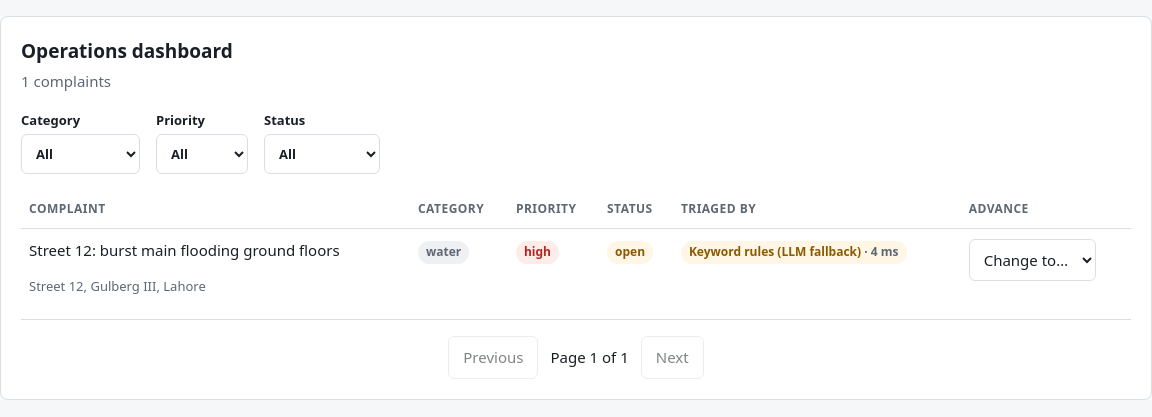
it: DashboardPage › applies a legal transition to the row
Expected: the text "Street 12: burst main flooding ground floors" is shown, [29,240,340,260]
Select "In Progress" in the dropdown named "change status for": (1032, 260) [969,239,1096,281]
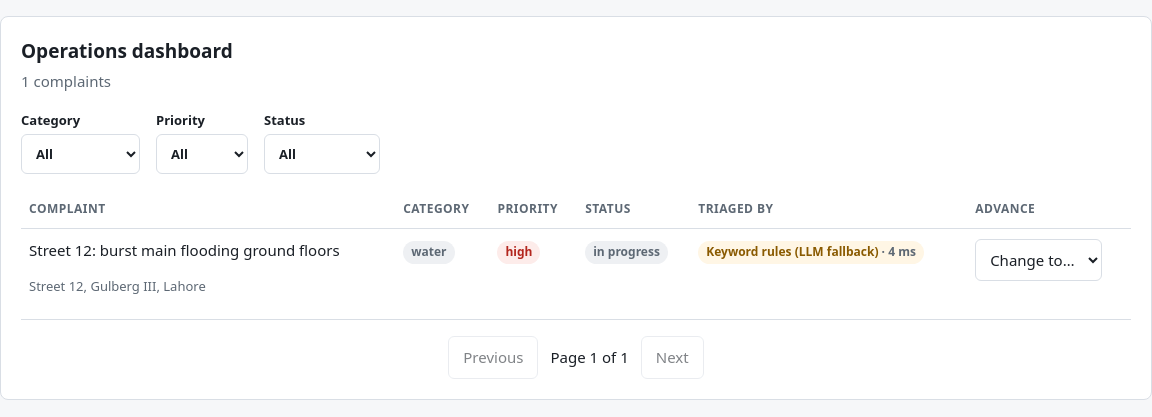
Expected: the text with test id "status-badge" reads "in progress", [593,243,660,260]
